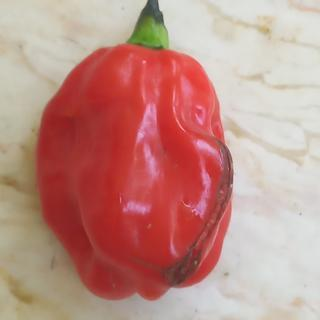striped: (156, 131, 240, 298)
